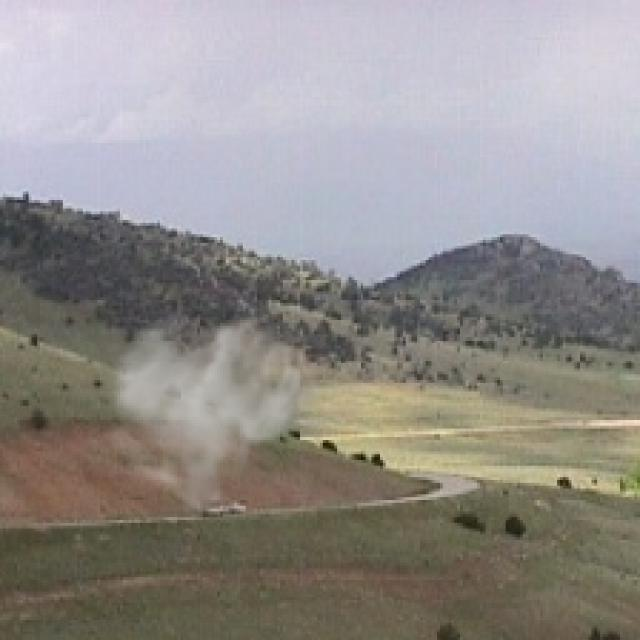smoke: (100, 294, 326, 529)
